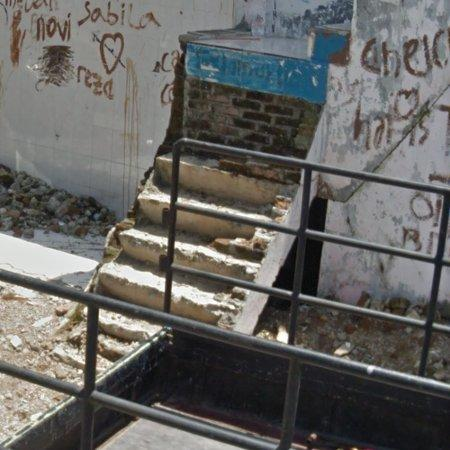stairs: (98, 154, 171, 310), (179, 155, 297, 220), (176, 212, 274, 282), (171, 276, 246, 325)
